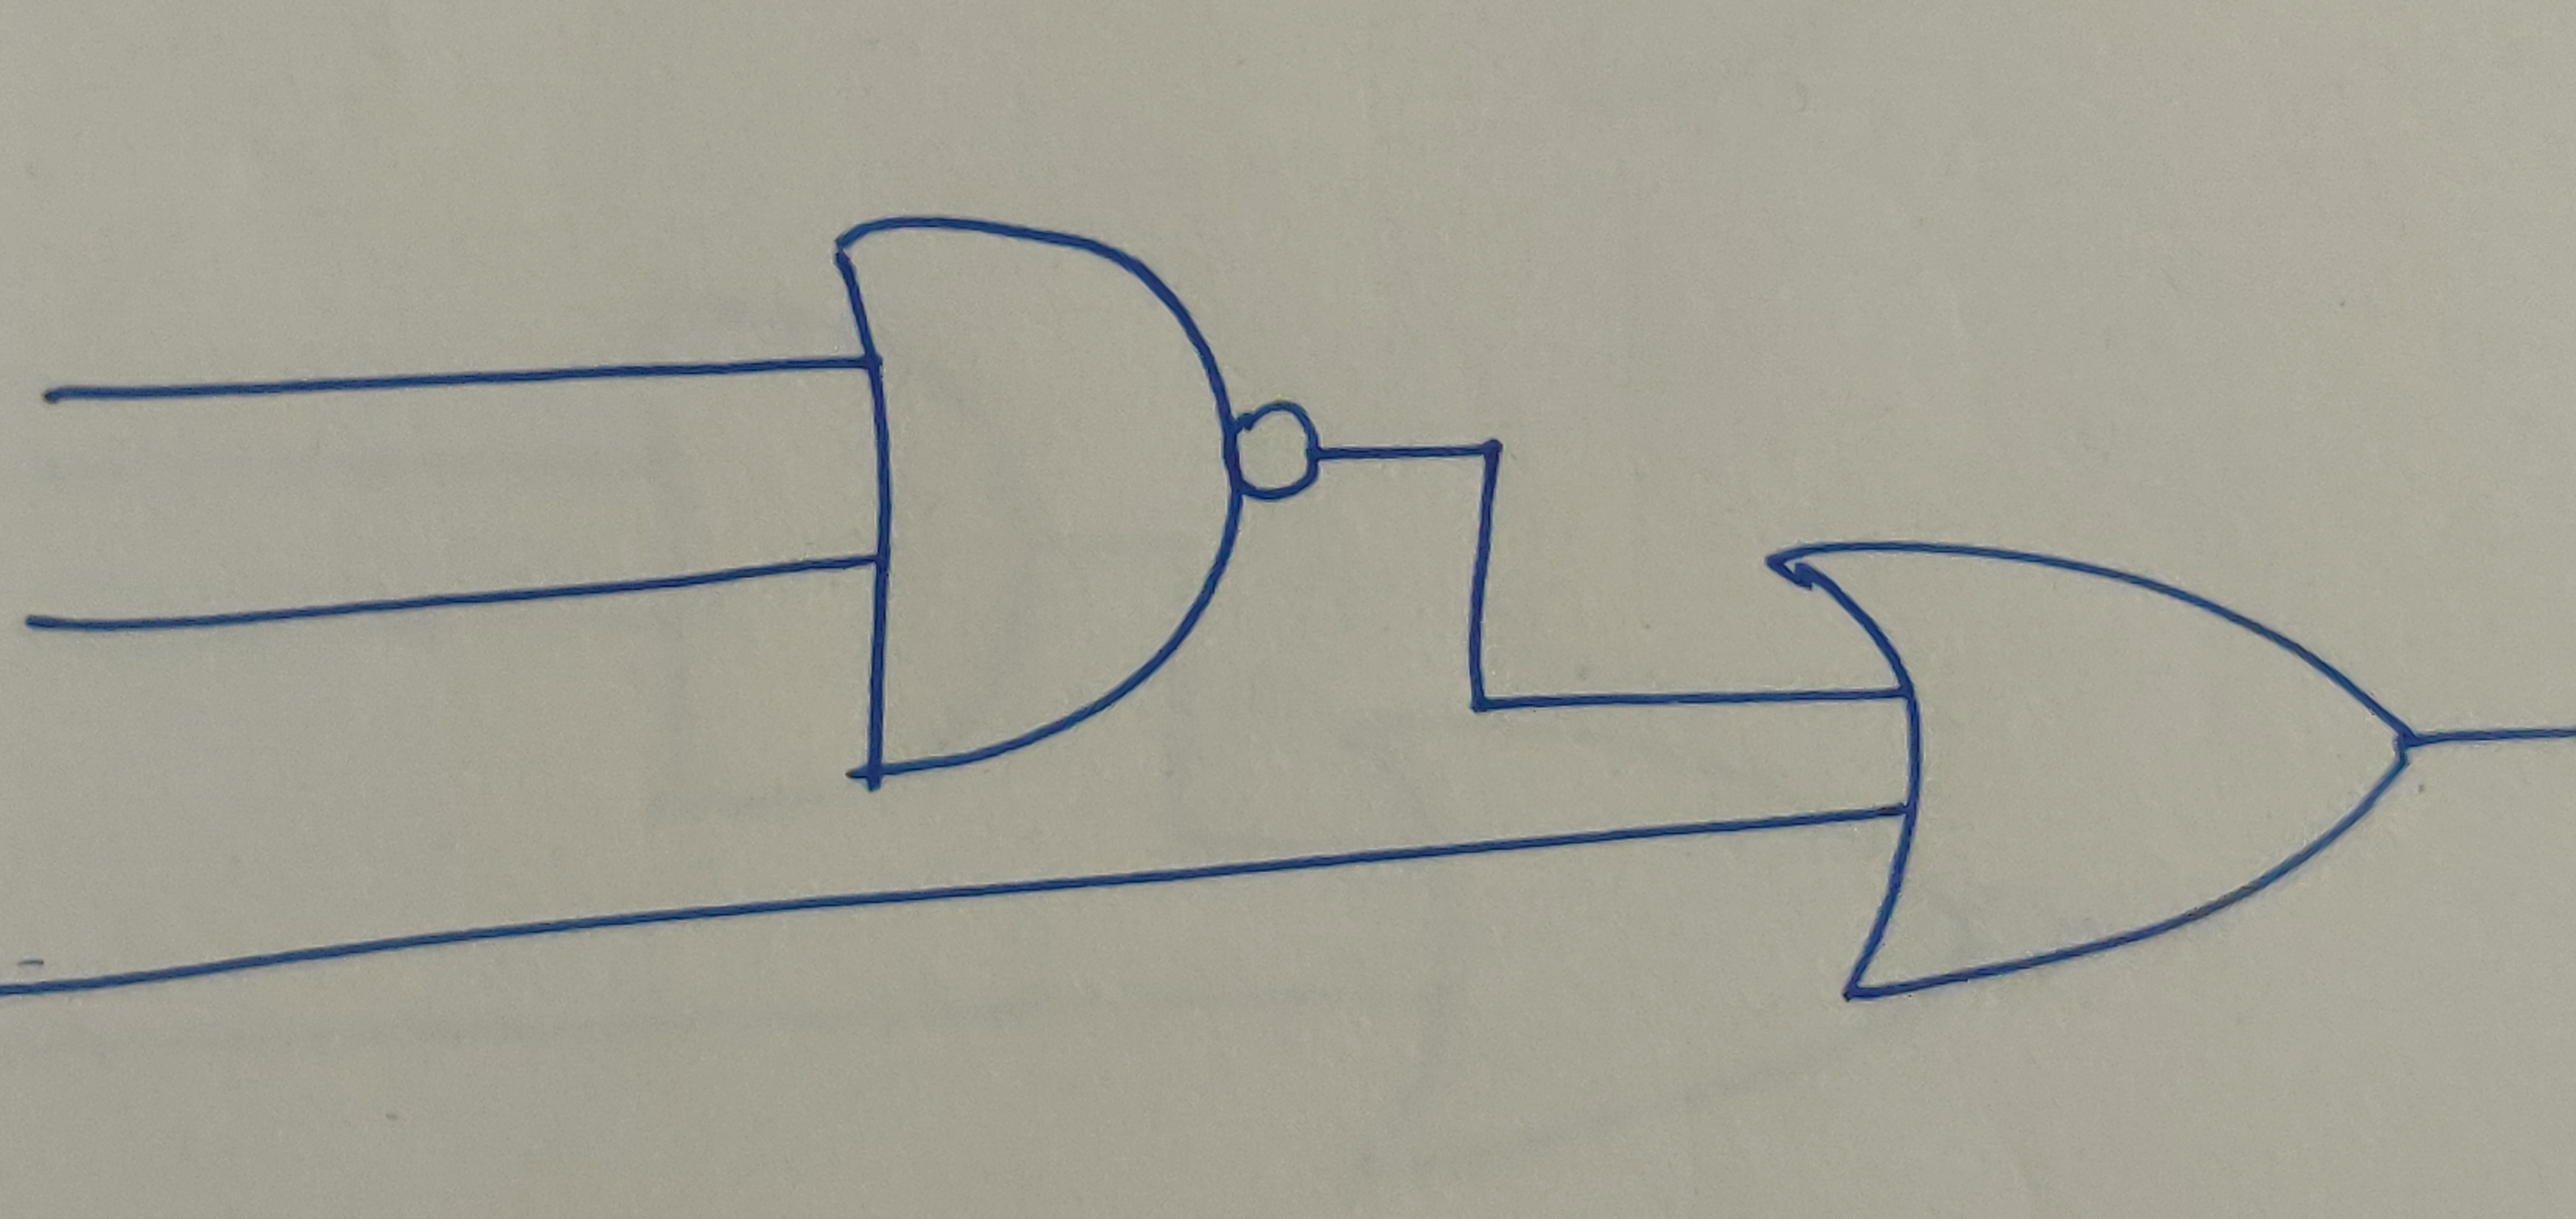and: (826, 214, 1239, 784)
not: (1226, 394, 1324, 511)
or: (1756, 537, 2418, 1005)
